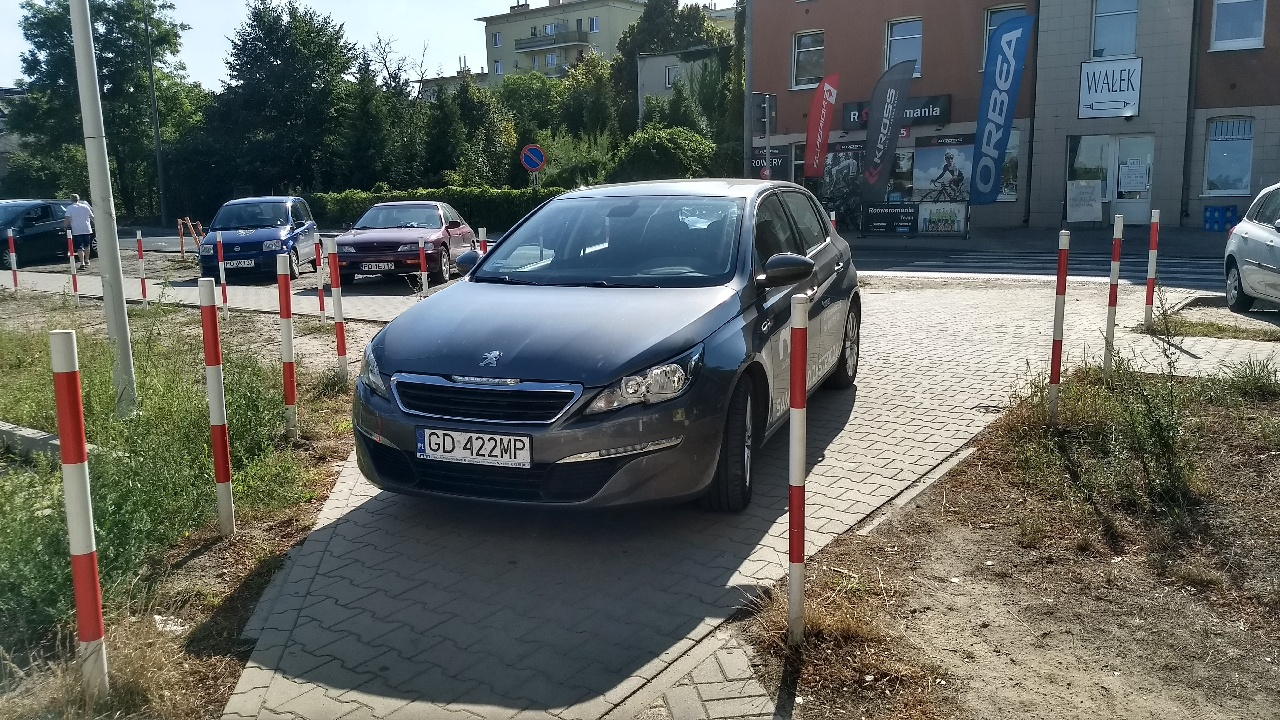B35: (521, 144, 546, 171)
